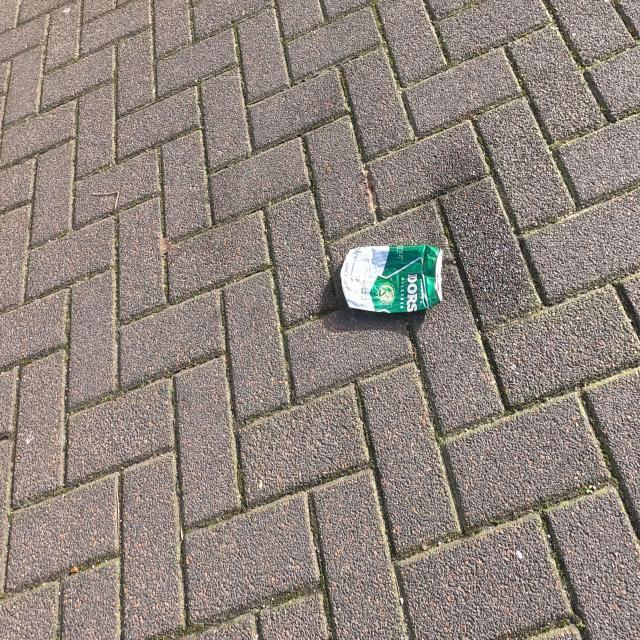Can-Metal: (342, 242, 446, 316)
